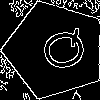Q: (30, 25, 92, 77)
